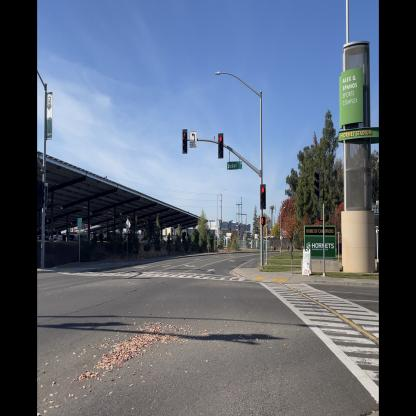left-red: (182, 128, 188, 156)
red: (217, 132, 224, 160), (260, 183, 266, 212)
